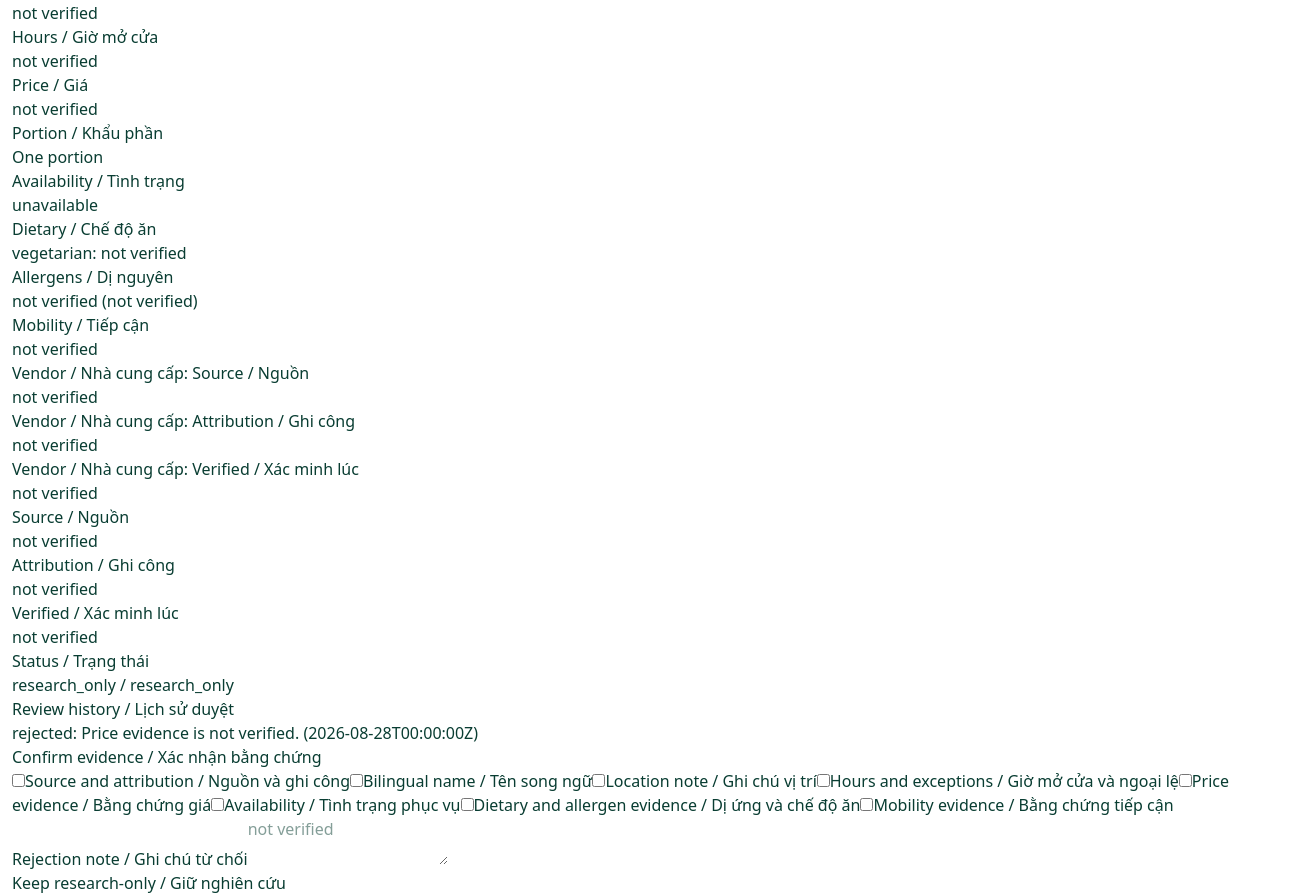
admin catalog review queue › treats a resolved RPC error as a failed review rather than success
The width and height of the screenshot is (1292, 895).
(page scrolled)
Type "Still needs verification." into the text box labelled "Rejection note / Ghi chú từ chối" at {"x": 348, "y": 842}, box [248,818,448,866]
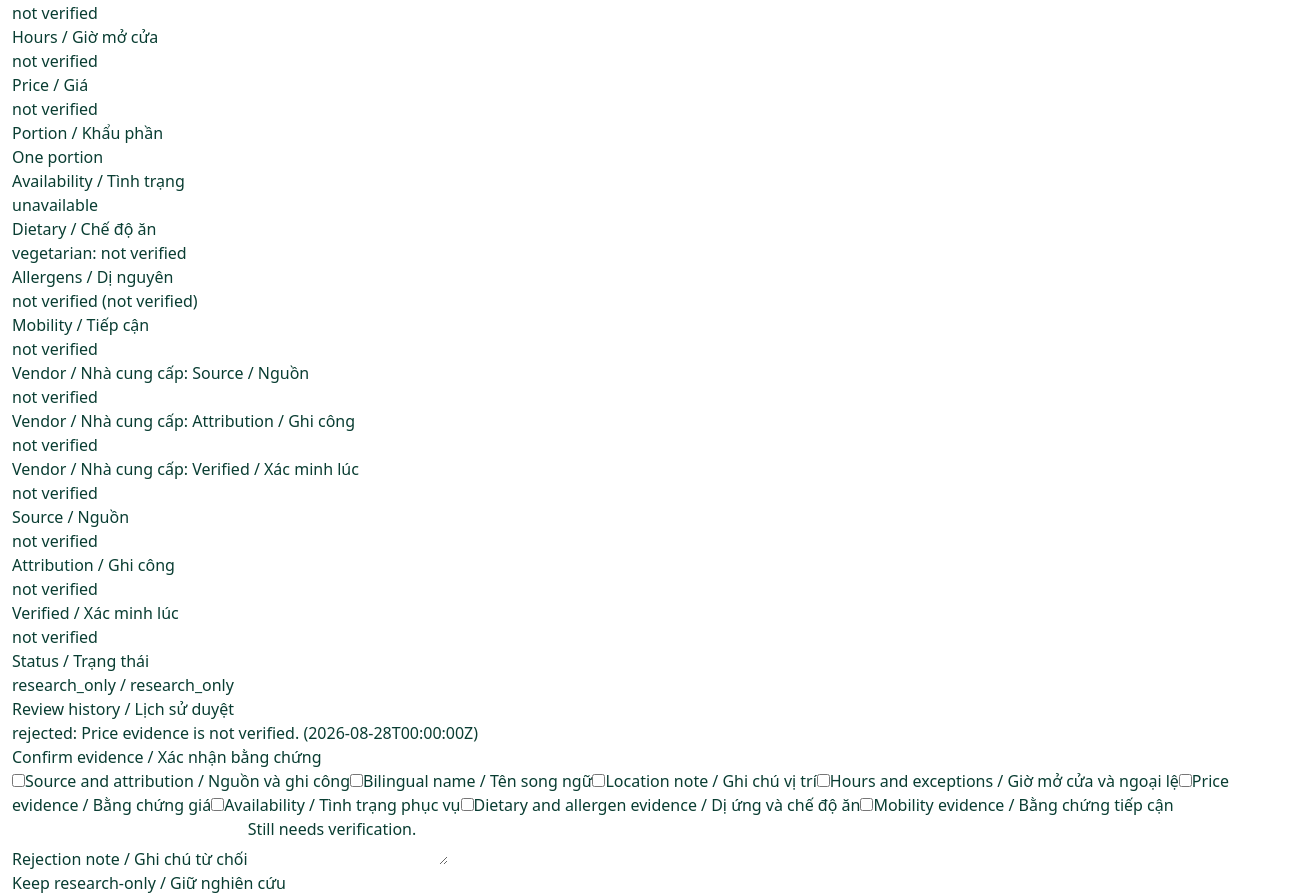
Click the button "Keep research-only / Giữ nghiên cứu" at {"x": 149, "y": 884}, box [12,872,286,894]
(page scrolled)
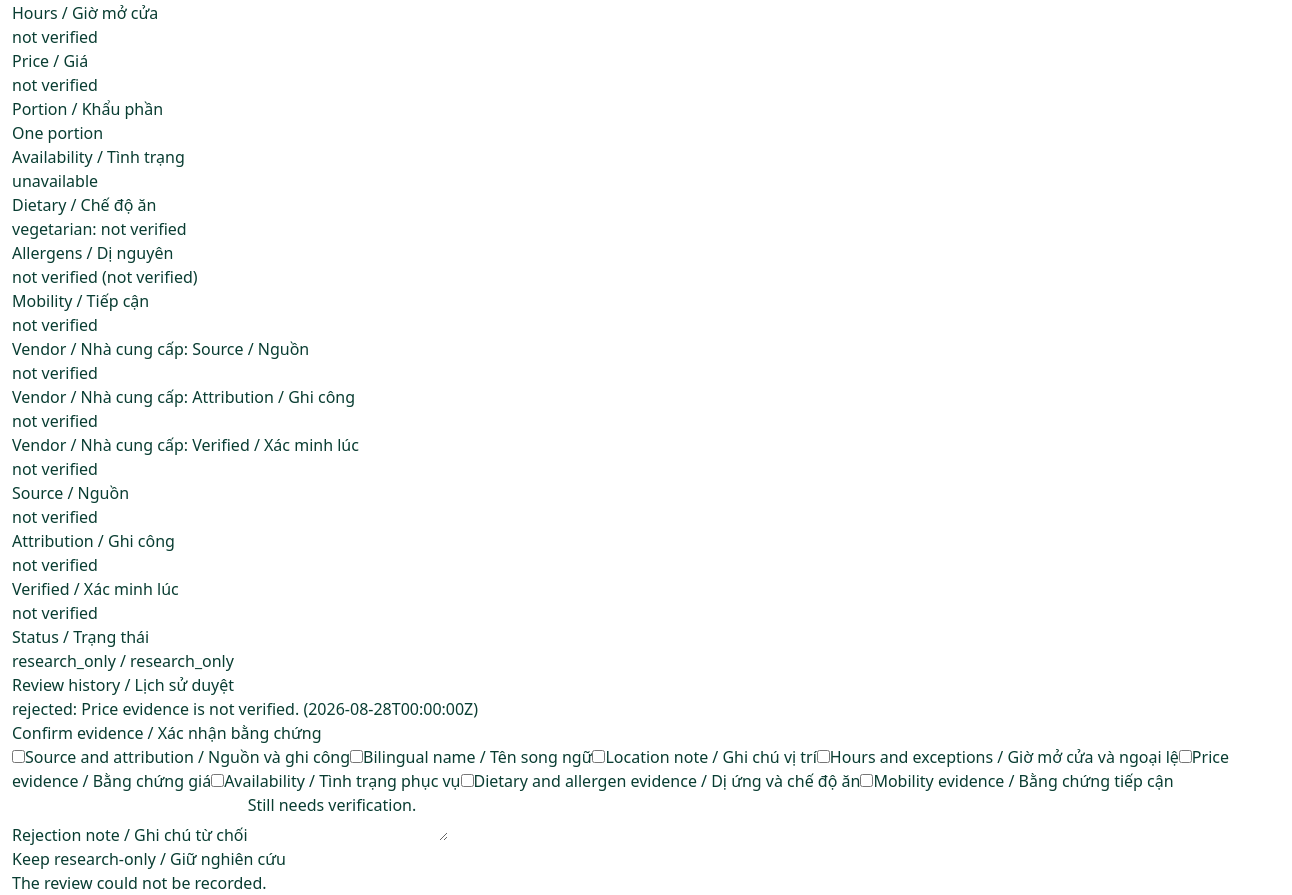
Now the message shows "could not be recorded", box [12,872,266,894]
